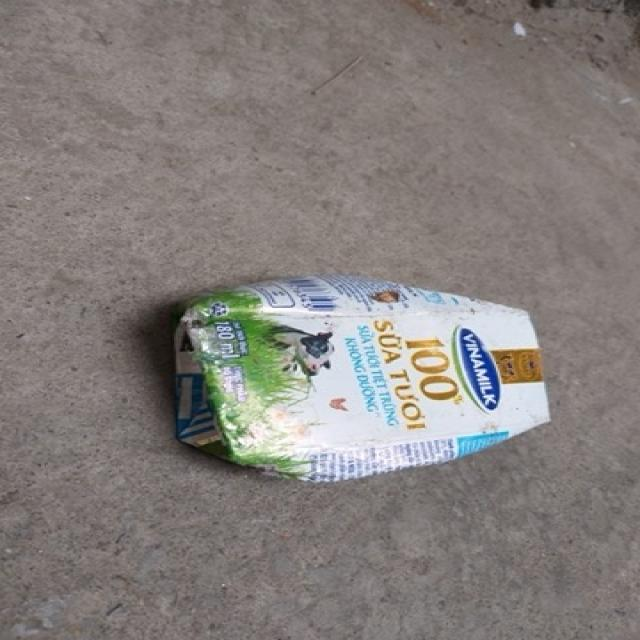PaperCardboard: (169, 272, 573, 485)
